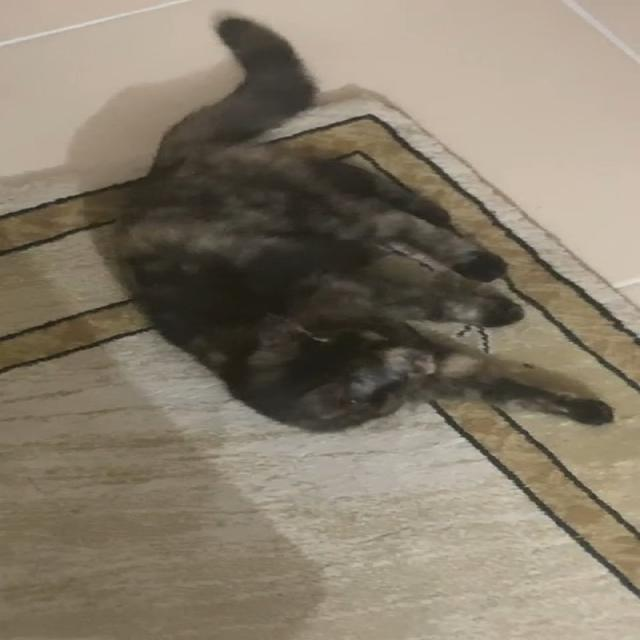authorized: (98, 9, 614, 434)
